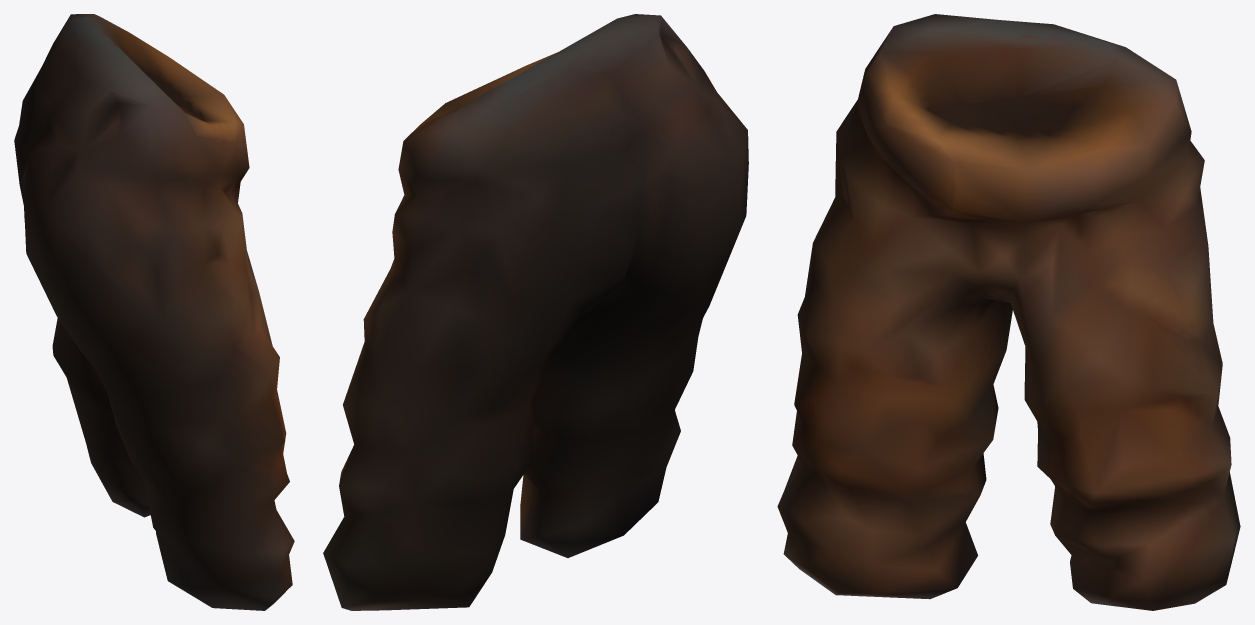
Rendered from trousers_leather.glb.
3 views of the same model, side by side, from view 1: azimuth 30°, elevation 25°; view 2: azimuth 150°, elevation 25°; view 3: azimuth 270°, elevation 25° (orthographic). The views are drawn at different scales.
Parts seen in each view (by area): view 1: model; view 2: model; view 3: model.
Part boxes in pixels (bbox=[...]): model: bbox=[14, 14, 294, 610]; model: bbox=[323, 14, 748, 610]; model: bbox=[777, 14, 1240, 610].
Size of the model in its own units: 0.203 by 0.4002 by 0.3141.
1 material, 1 textured.
